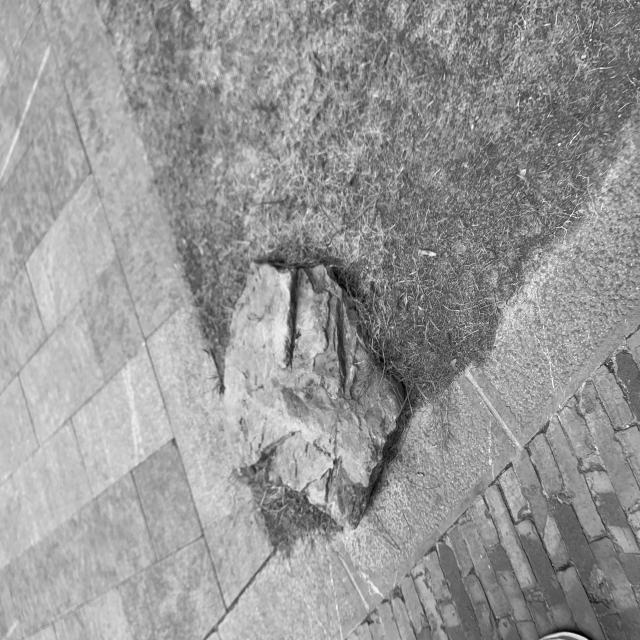Stone: (222, 262, 400, 526)
